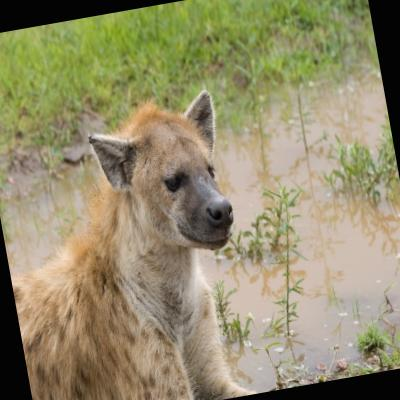hyenas: (0, 53, 358, 400)
